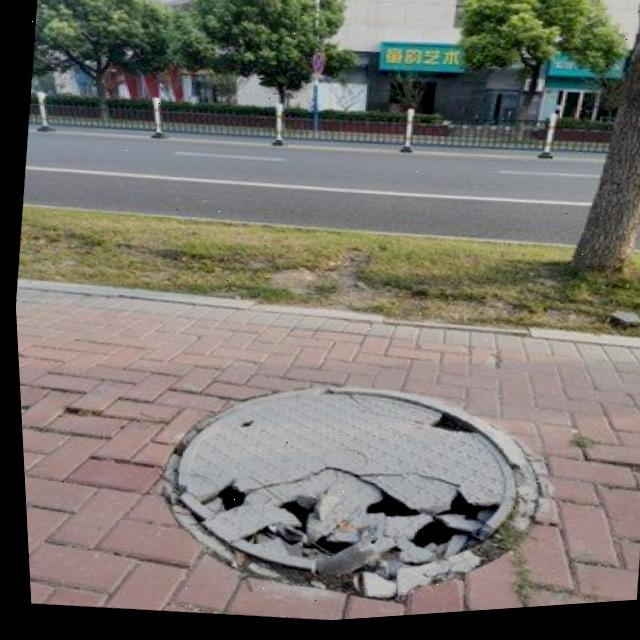manhole: (133, 351, 560, 634)
